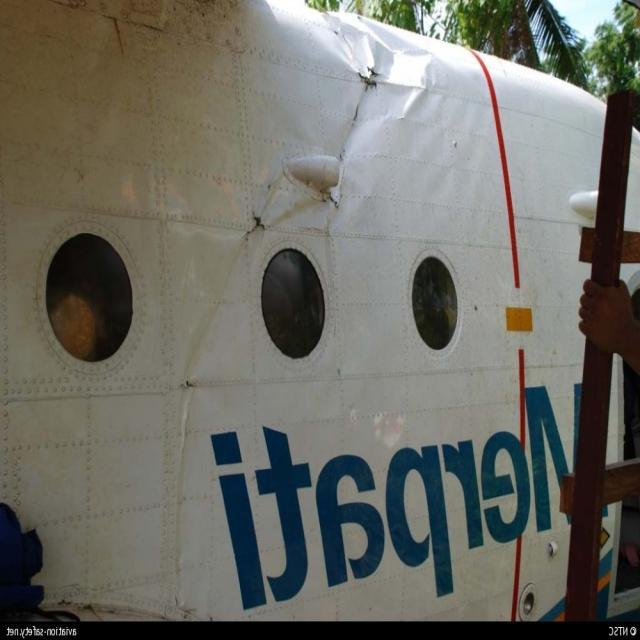crack: (346, 63, 387, 127), (238, 210, 273, 239), (178, 379, 200, 396)
dent: (324, 14, 432, 173)
